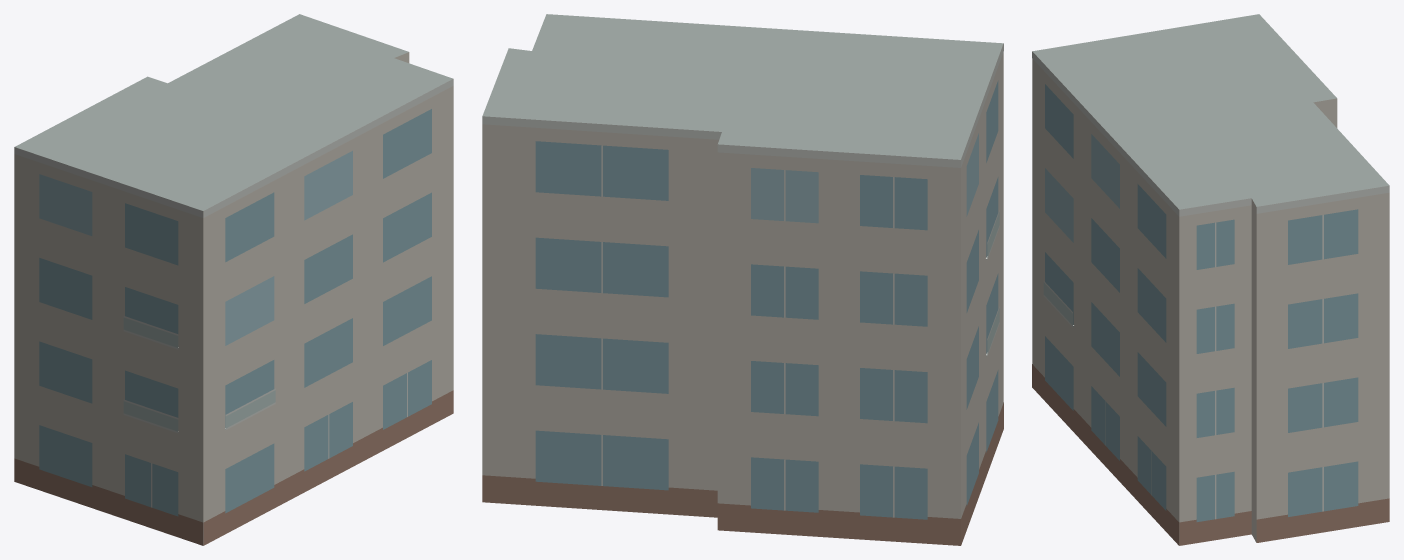
Rendered from survey-upis-32710943.glb.
3 views of the same model, side by side, from view 1: azimuth 30°, elevation 25°; view 2: azimuth 150°, elevation 25°; view 3: azimuth 270°, elevation 25° (orthographic). The views are drawn at different scales.
Visible parts, largest first — view 1: survey-upis-32710943.tmp; view 2: survey-upis-32710943.tmp; view 3: survey-upis-32710943.tmp.
Part boxes in pixels (box(x1,y1,x2,y2)): survey-upis-32710943.tmp: box(14, 14, 453, 545); survey-upis-32710943.tmp: box(482, 14, 1003, 545); survey-upis-32710943.tmp: box(1032, 14, 1389, 545).
Bounding box in the file's own units: 14.62 × 11.7 × 11.28.
